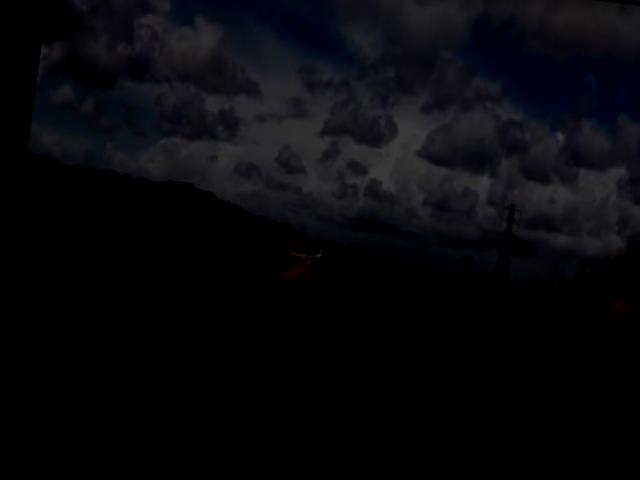iha: (278, 245, 331, 275)
